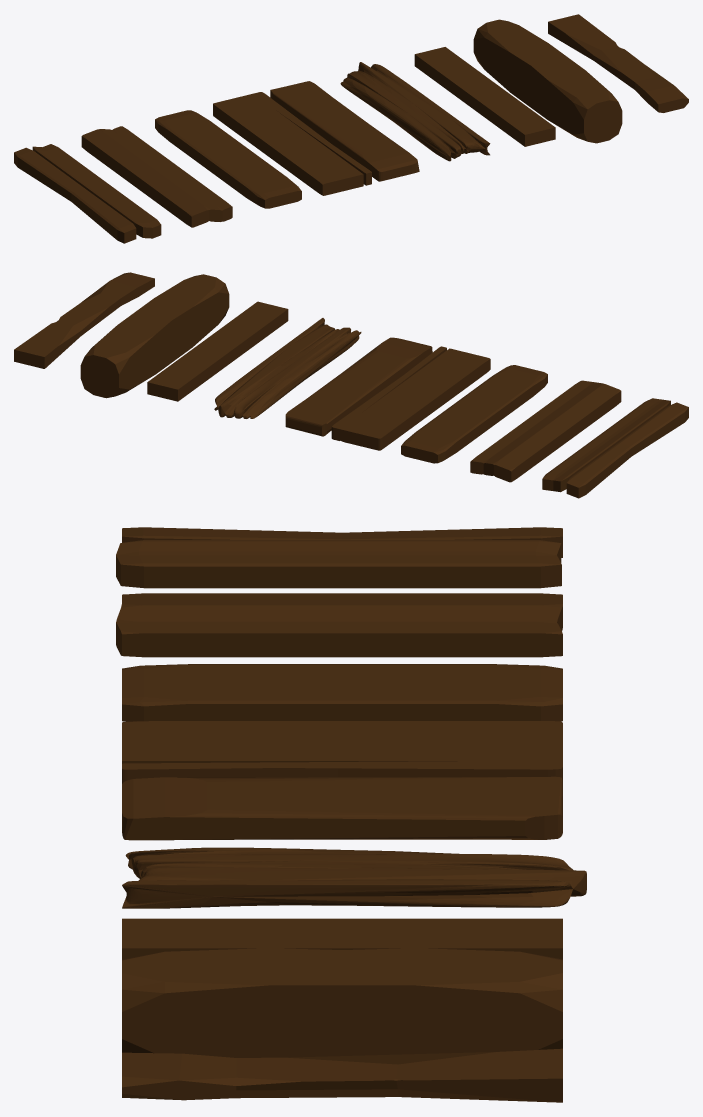
The model's file is Woods.fbx.
3 renders of one model, top to bottom at view 1: azimuth 30°, elevation 25°; view 2: azimuth 150°, elevation 25°; view 3: azimuth 270°, elevation 25°, orthographic. The views are drawn at different scales.
Visible parts, largest first — view 1: Log, wp3, wp5, wp4, wp2, wpBroken, spSimple2, wpSimple, wo1; view 2: Log, wp3, wp5, wp4, wp2, wpBroken, spSimple2, wpSimple, wo1; view 3: Log, wp5, spSimple2, wpBroken, wp2, wp3, wp4, wo1, wpSimple.
Part boxes in pixels (x1,y1,x2,y2): Log: [473, 19, 622, 143]; wp3: [213, 92, 371, 195]; wp5: [81, 126, 232, 227]; wp4: [155, 110, 301, 208]; wp2: [340, 62, 490, 161]; wpBroken: [14, 144, 161, 243]; spSimple2: [270, 81, 419, 181]; wpSimple: [414, 47, 555, 146]; wo1: [548, 14, 688, 112]; Log: [80, 274, 229, 398]; wp3: [331, 346, 490, 450]; wp5: [470, 380, 621, 482]; wp4: [401, 365, 547, 463]; wp2: [214, 318, 361, 418]; wpBroken: [542, 398, 688, 498]; spSimple2: [285, 337, 432, 436]; wpSimple: [147, 301, 288, 401]; wo1: [14, 272, 154, 368]; Log: [122, 948, 562, 1057]; wp5: [116, 593, 562, 657]; spSimple2: [122, 776, 562, 840]; wpBroken: [116, 527, 562, 588]; wp2: [122, 847, 586, 908]; wp3: [122, 721, 562, 783]; wp4: [122, 664, 562, 721]; wo1: [122, 1048, 562, 1102]; wpSimple: [122, 918, 562, 959].
Size of the model in its own units: 887 by 60 by 319.
